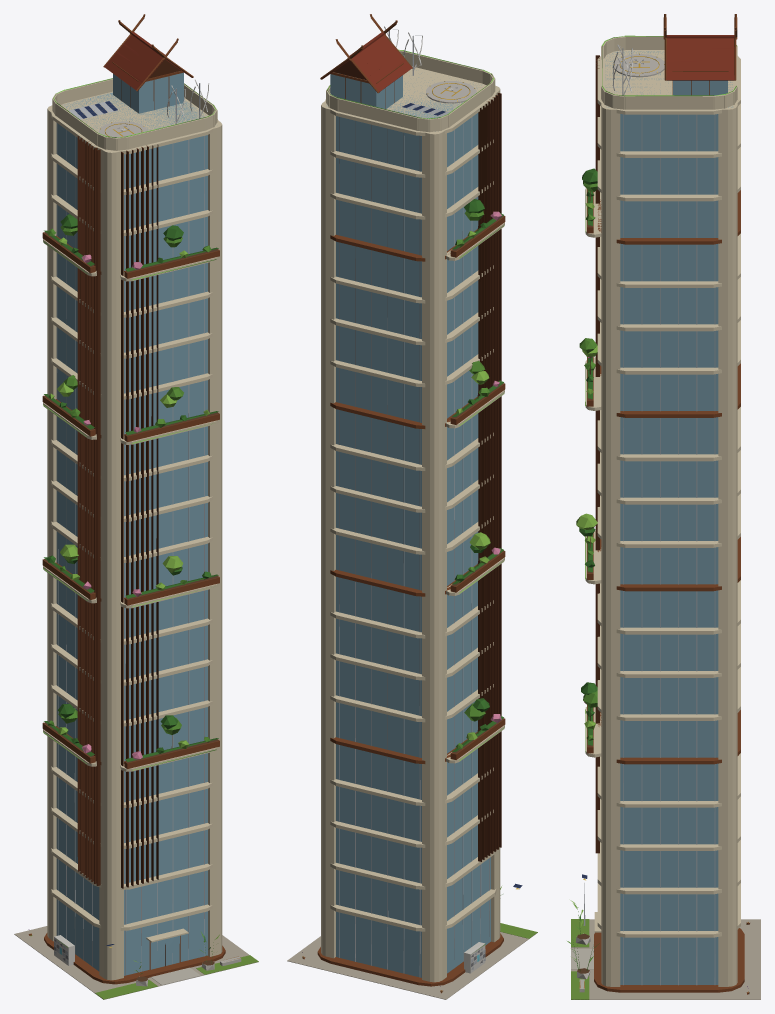
Rendered from shop_4.glb.
3 renders of one model, left to right at view 1: azimuth 30°, elevation 25°; view 2: azimuth 150°, elevation 25°; view 3: azimuth 270°, elevation 25°, orthographic. The views are drawn at different scales.
Parts seen in each view (by area): view 1: body, windows; view 2: body, windows; view 3: body, windows.
Boxes of the visible parts, x1=… form: body: x1=14, y1=14, x2=258, y2=999; windows: x1=43, y1=78, x2=216, y2=954; body: x1=287, y1=14, x2=537, y2=999; windows: x1=327, y1=49, x2=519, y2=961; body: x1=567, y1=14, x2=760, y2=999; windows: x1=583, y1=35, x2=736, y2=880.
Size of the model in its own units: 15.9 by 88.33 by 16.29.
